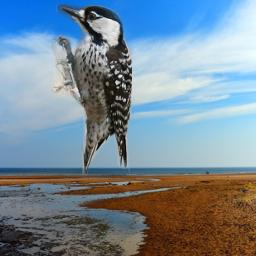Woodpecker: (50, 4, 132, 175)
